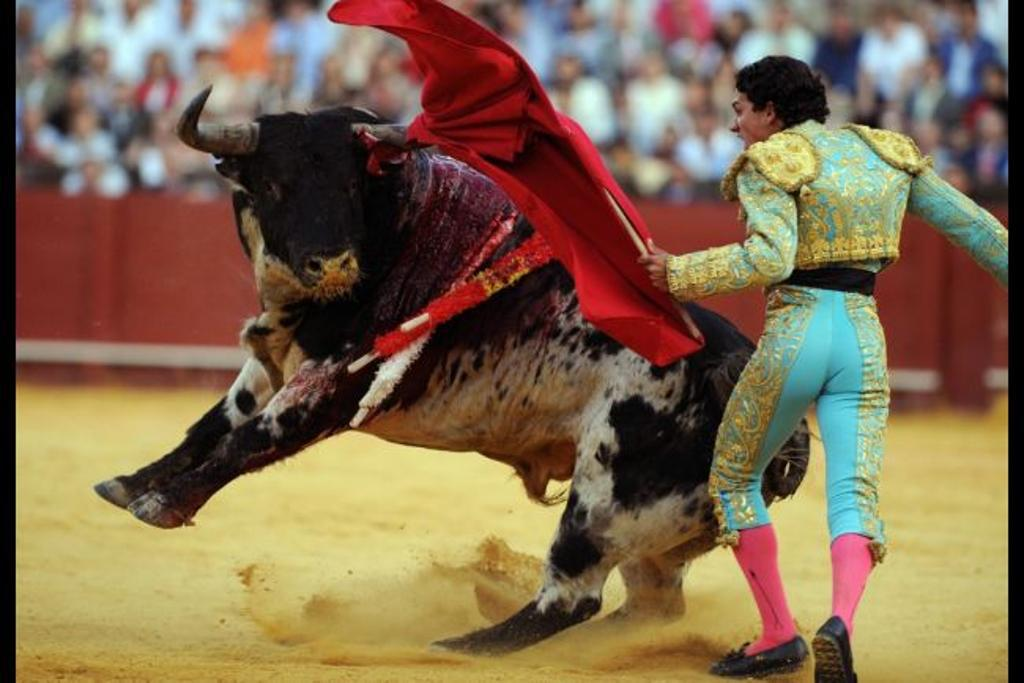face: (728, 85, 768, 154)
